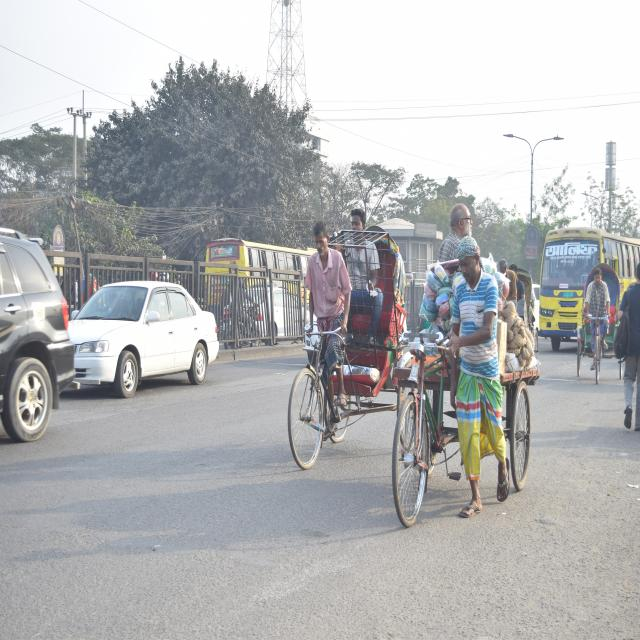bus: (534, 223, 640, 351), (199, 230, 313, 336)
car: (73, 265, 223, 399), (0, 209, 77, 440)
